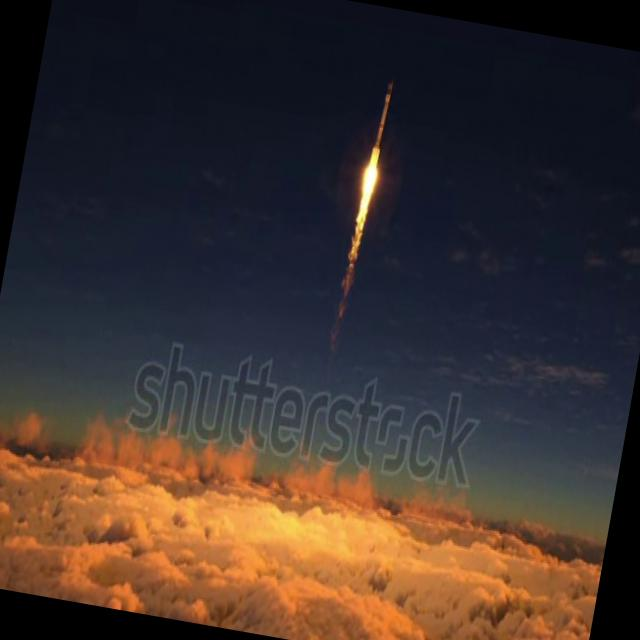rocket: (330, 64, 410, 321)
